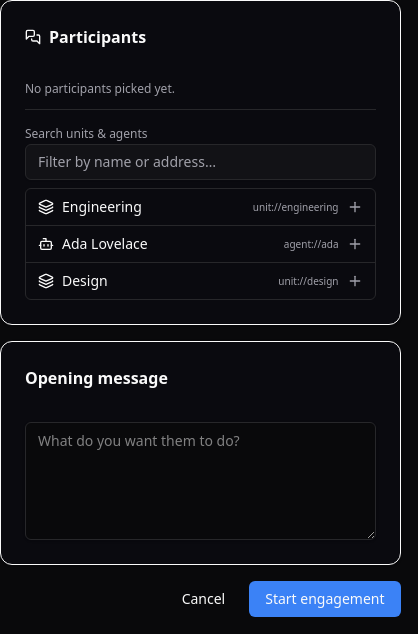
Test case: NewEngagementForm — picker › filters by name and address
Type "ada" into the field with test id "engagement-new-filter" at (200, 162), box [25,144,376,180]
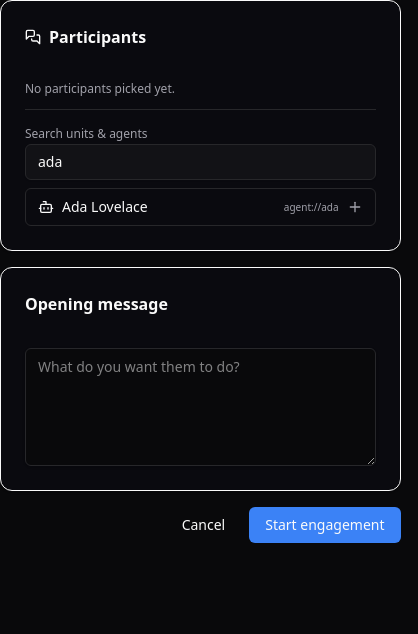
expect the button with test id "engagement-new-pick-agent-ada" is shown: met, box [26,189,374,225]
expect the button with test id "engagement-new-pick-unit-engineering" is gone: met
